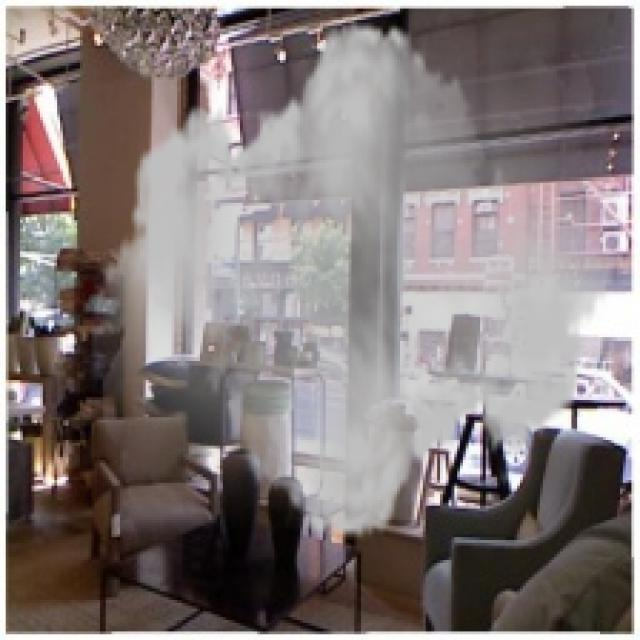Smoke: (91, 0, 623, 560)
